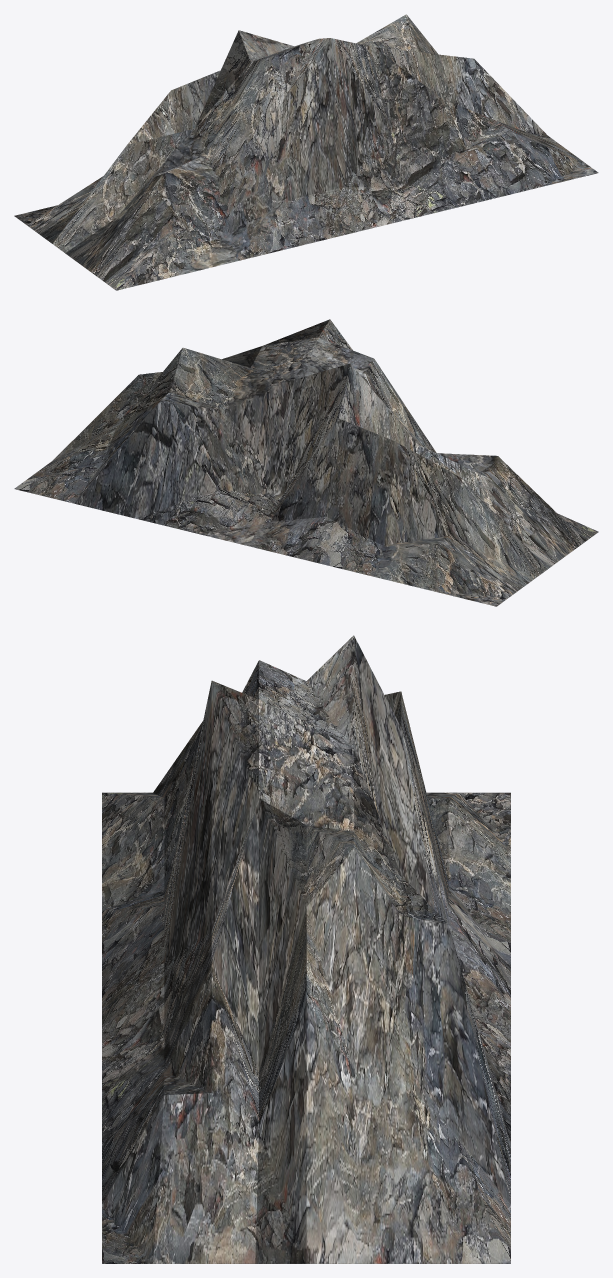
The model's file is mountain.fbx.
3 renders of one model, top to bottom at view 1: azimuth 30°, elevation 25°; view 2: azimuth 150°, elevation 25°; view 3: azimuth 270°, elevation 25°, orthographic. The views are drawn at different scales.
Parts seen in each view (by area): view 1: Plane; view 2: Plane; view 3: Plane.
Part boxes in pixels (left/top/right/bottom): Plane: left=14, top=14, right=598, bottom=290; Plane: left=14, top=319, right=598, bottom=606; Plane: left=102, top=635, right=510, bottom=1263.
Bounding box in the file's own units: 545 × 188 × 200.
